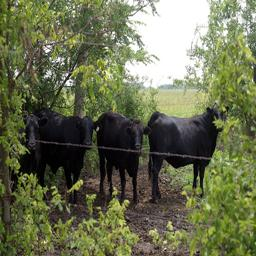cow: (61, 138, 204, 256), (175, 132, 256, 256), (187, 143, 256, 256), (27, 147, 97, 256)
